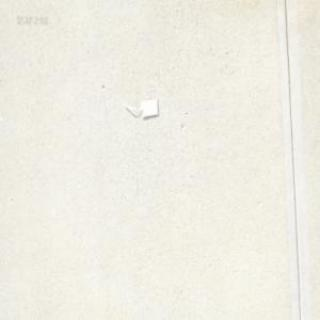LuggageTagtrack_idkeyframe: (121, 96, 158, 118)
